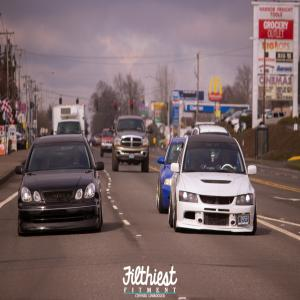Vehicle-registration-plate: (238, 216, 251, 227), (130, 153, 135, 159)
